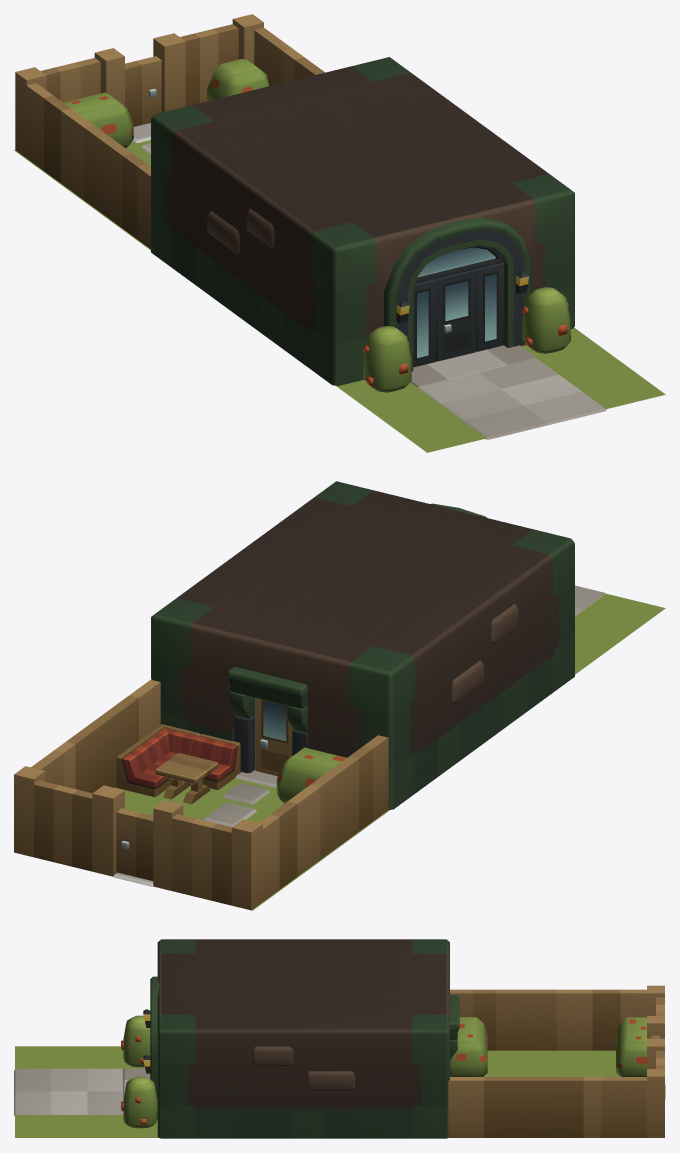
Rendered from appartment_type3_x3_ground_brown.fbx.
3 renders of one model, top to bottom at view 1: azimuth 30°, elevation 25°; view 2: azimuth 150°, elevation 25°; view 3: azimuth 270°, elevation 25°, orthographic. The views are drawn at different scales.
Parts seen in each view (by area): view 1: appartment_type3_x3_ground_brown, door_front_appartment_type3, door_garden_appartment_type3; view 2: appartment_type3_x3_ground_brown, door_garden_appartment_type3, door_back_appartment_type3; view 3: appartment_type3_x3_ground_brown.
Boxes of the visible parts, x1,y1,x2,y2 form: appartment_type3_x3_ground_brown: [14, 14, 665, 452]; door_front_appartment_type3: [436, 269, 476, 361]; door_garden_appartment_type3: [125, 56, 161, 126]; appartment_type3_x3_ground_brown: [14, 481, 665, 910]; door_garden_appartment_type3: [116, 808, 153, 880]; door_back_appartment_type3: [255, 698, 293, 776]; appartment_type3_x3_ground_brown: [14, 939, 665, 1138].
Bounding box in the file's own units: 628 × 335 × 1806.
